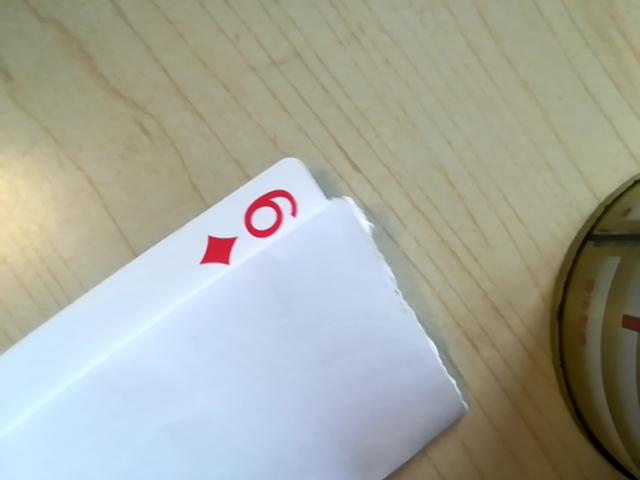fk 6: (194, 184, 312, 268)
